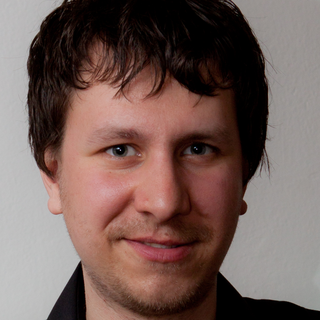eye: (86, 140, 146, 166), (176, 138, 225, 164)
